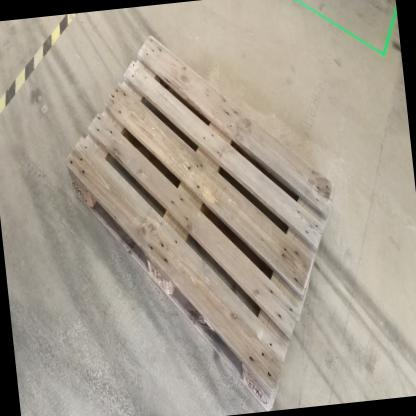BoxFace: (61, 27, 338, 411)
